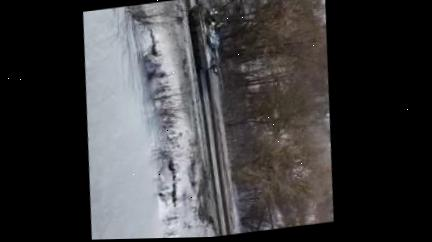tank: (180, 0, 231, 93)
